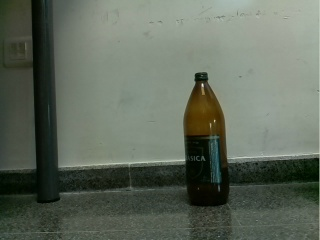pote cristal: (183, 72, 230, 207)
